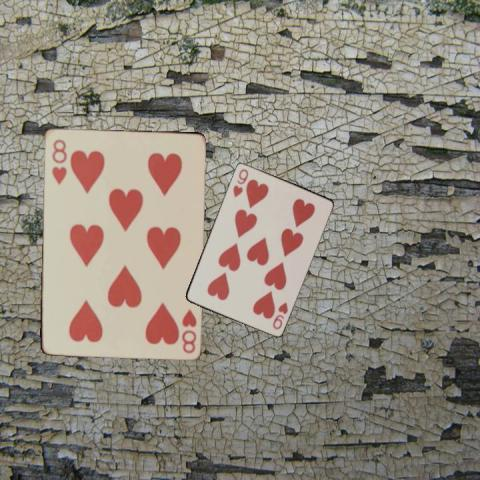8h: (49, 136, 68, 185), (179, 306, 198, 355)
9h: (230, 165, 249, 199), (270, 298, 290, 330)
